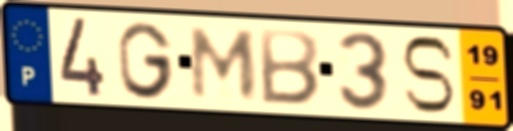3: (335, 30, 393, 113)
4: (57, 15, 108, 99)
B: (258, 26, 323, 109)
G: (115, 19, 177, 102)
M: (189, 25, 260, 102)
S: (398, 33, 458, 117)
